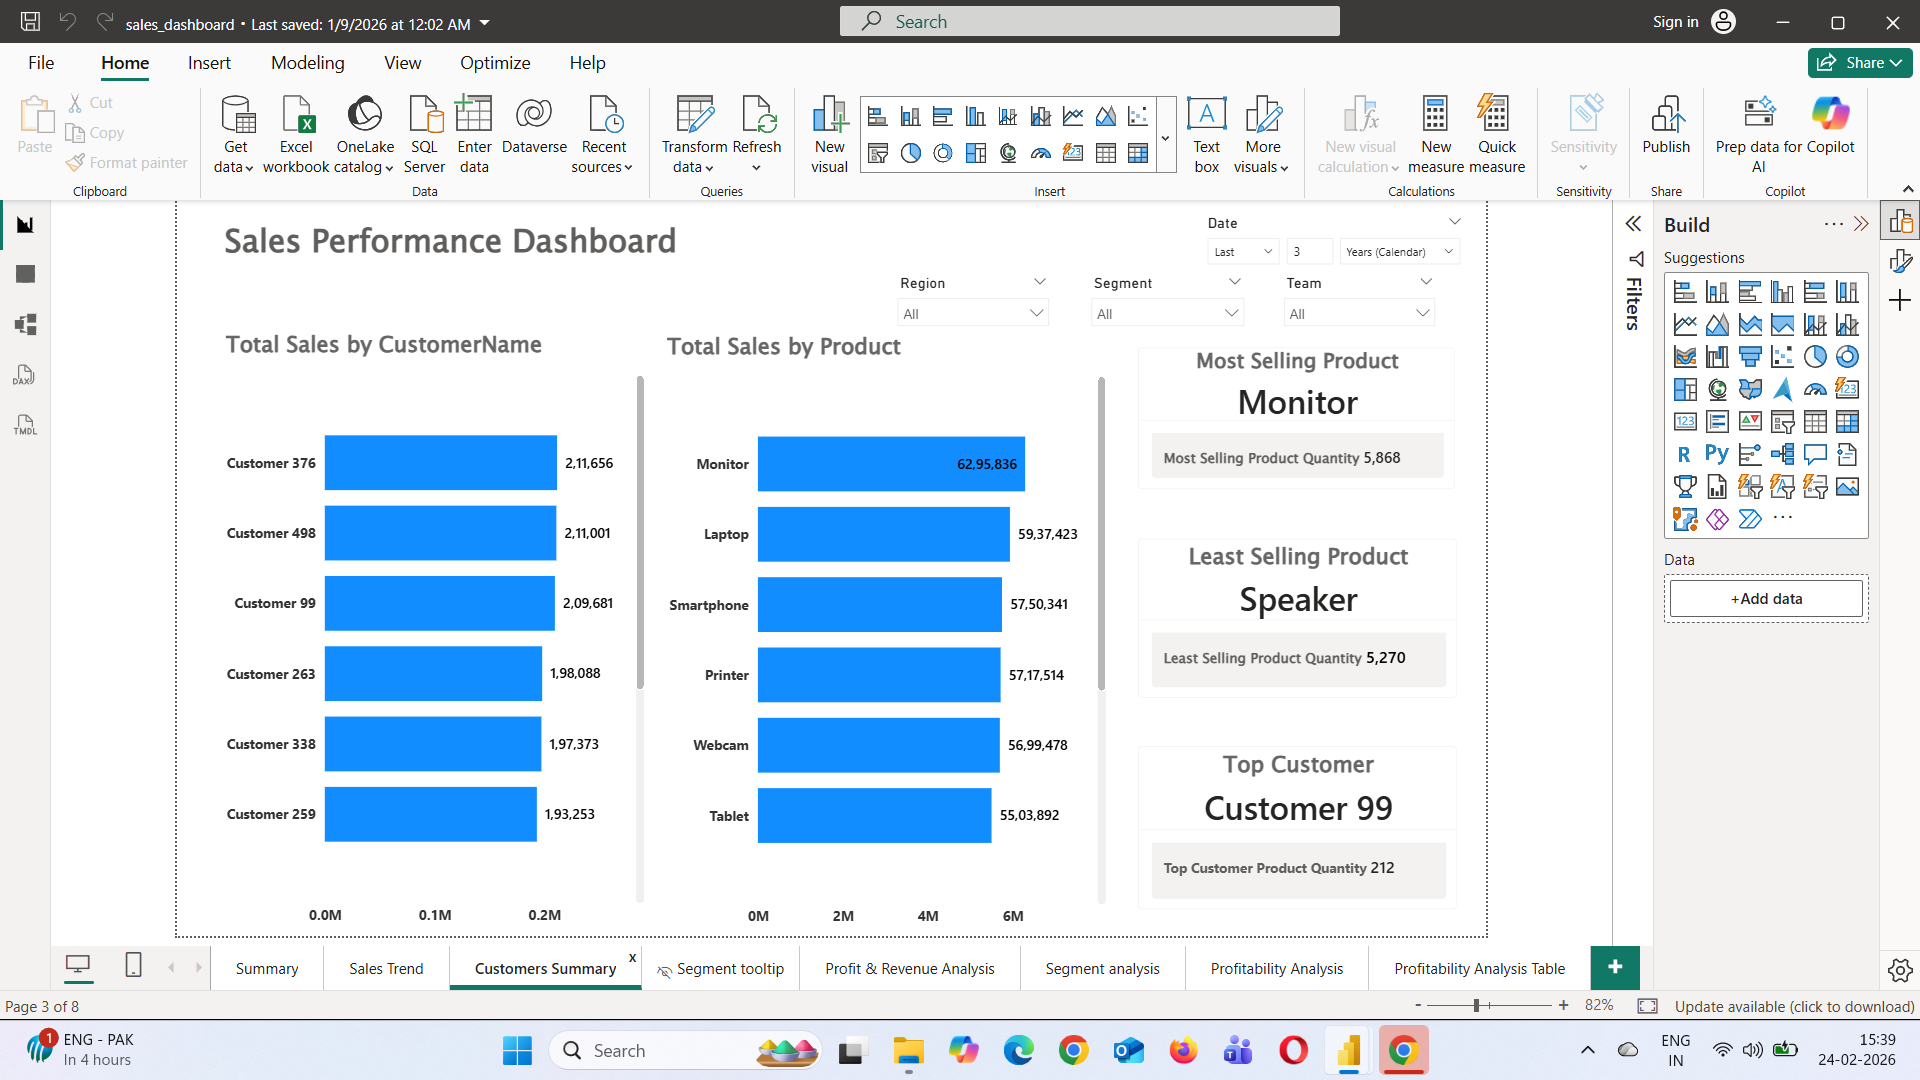

The page's visual inventory and layout, read from the dashboard file:
{"tool":"powerbi","page":{"name":"Customers Summary","canvas":[1280,720],"ordinal":2},"visuals":[{"type":"slicer","fields":{"Values":["Calendar.Date"]},"box":[995.4,8.6,273.9,58.7],"z":0},{"type":"slicer","fields":{"Values":["SalesData.Region"]},"box":[694.6,67.3,168.8,59.9],"z":1000},{"type":"slicer","fields":{"Values":["SalesData.Segment"]},"box":[884.1,67.3,170,59.9],"z":2000},{"type":"slicer","fields":{"Values":["SalesData.Team"]},"box":[1072.4,67.3,168.8,59.9],"z":3000},{"type":"actionButton","box":[43.3,13,515.1,40.4],"z":4000},{"type":"barChart","fields":{"Category":["Customers.CustomerName"],"Y":["_All Measures.Total Sales"]},"box":[42.8,126,419.4,593.1],"z":5000},{"type":"barChart","fields":{"Y":["_All Measures.Total Sales"],"Category":["SalesData.Product"]},"box":[475,126.6,439.5,593.1],"z":6000},{"type":"cardVisual","fields":{"Data":["_All Measures.Most Selling Product"]},"box":[923.2,127.2,344.8,173.6],"z":7000},{"type":"cardVisual","fields":{"Data":["_All Measures.Least Selling Product"]},"box":[923.2,314.3,346.1,190.8],"z":8000},{"type":"cardVisual","fields":{"Data":["_All Measures.Top Customer"]},"box":[923.2,517.3,346.1,194.4],"z":9000}]}

Visuals, with their boxes on the page's 1280x720 design canvas (x1, y1, x2, y2). These are canvas units, not pixel positions in the 1920x1080 screenshot, which may show the page scaled, cropped or inside an application window:
slicer - Calendar.Date: [995, 9, 1269, 67]
slicer - SalesData.Region: [695, 67, 863, 127]
slicer - SalesData.Segment: [884, 67, 1054, 127]
slicer - SalesData.Team: [1072, 67, 1241, 127]
actionButton: [43, 13, 558, 53]
barChart - Customers.CustomerName x _All Measures.Total Sales: [43, 126, 462, 719]
barChart - _All Measures.Total Sales x SalesData.Product: [475, 127, 914, 720]
cardVisual - _All Measures.Most Selling Product: [923, 127, 1268, 301]
cardVisual - _All Measures.Least Selling Product: [923, 314, 1269, 505]
cardVisual - _All Measures.Top Customer: [923, 517, 1269, 712]
